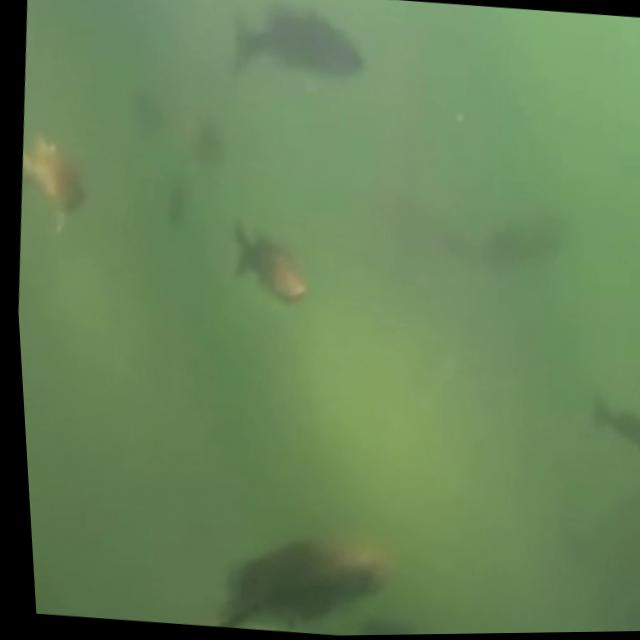fish: (148, 500, 410, 639), (204, 0, 384, 109), (205, 201, 320, 330), (11, 112, 107, 254), (557, 370, 640, 488)
